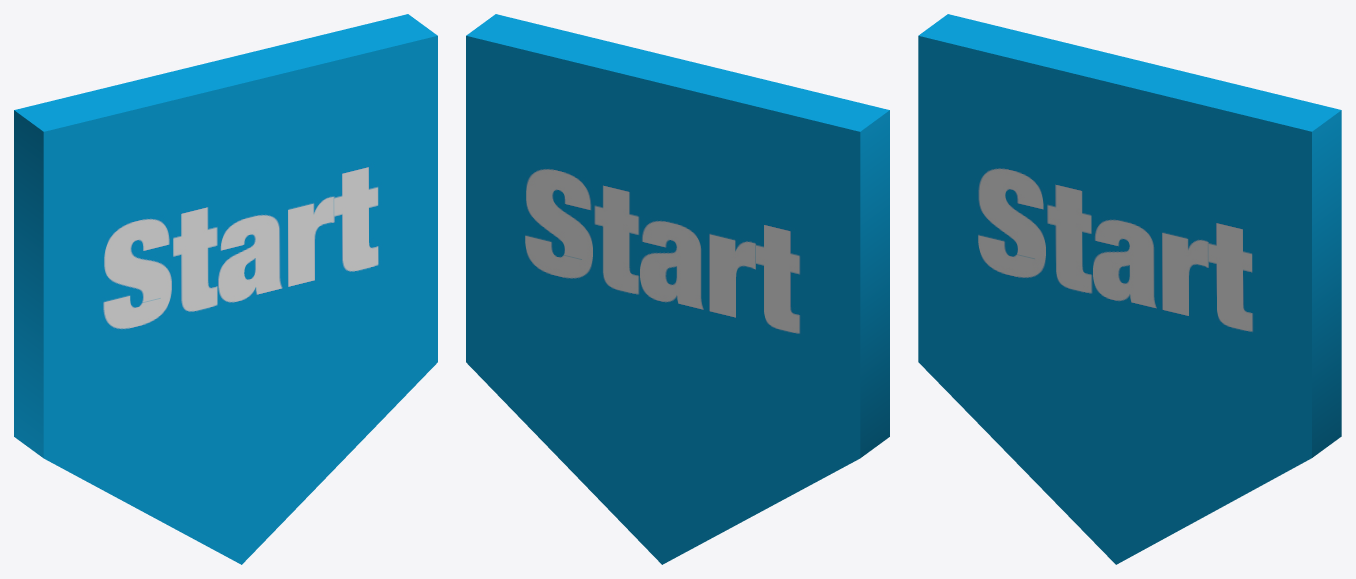
The model's file is blue start marker.fbx.
3 renders of one model, left to right at view 1: azimuth 30°, elevation 25°; view 2: azimuth 150°, elevation 25°; view 3: azimuth 330°, elevation 25°, orthographic.
Parts seen in each view (by area): view 1: pCube1; view 2: pCube1; view 3: pCube1.
Boxes of the visible parts, x1=… form: pCube1: x1=14, y1=14, x2=437, y2=564; pCube1: x1=466, y1=14, x2=889, y2=564; pCube1: x1=918, y1=14, x2=1341, y2=564.
Bounding box in the file's own units: 3.96 × 4.62 × 0.5166.
1 material, 1 textured.
